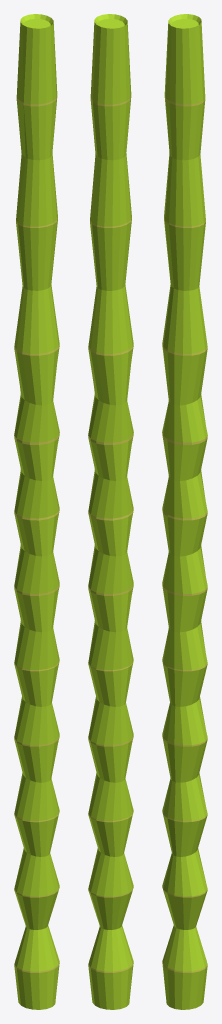
Rendered from bamboo.glb.
The picture shows the model from 3 angles, left to right: view 1: azimuth 30°, elevation 25°; view 2: azimuth 210°, elevation 25°; view 3: azimuth 330°, elevation 25°; orthographic projection.
Visible parts, largest first — view 1: Cylinder; view 2: Cylinder; view 3: Cylinder.
Boxes of the visible parts, box(x1,y1,x2,y2) form: Cylinder: box(14, 14, 59, 1009); Cylinder: box(88, 14, 133, 1009); Cylinder: box(162, 14, 207, 1009).
Size of the model in its own units: 0.4343 by 10 by 0.393.
